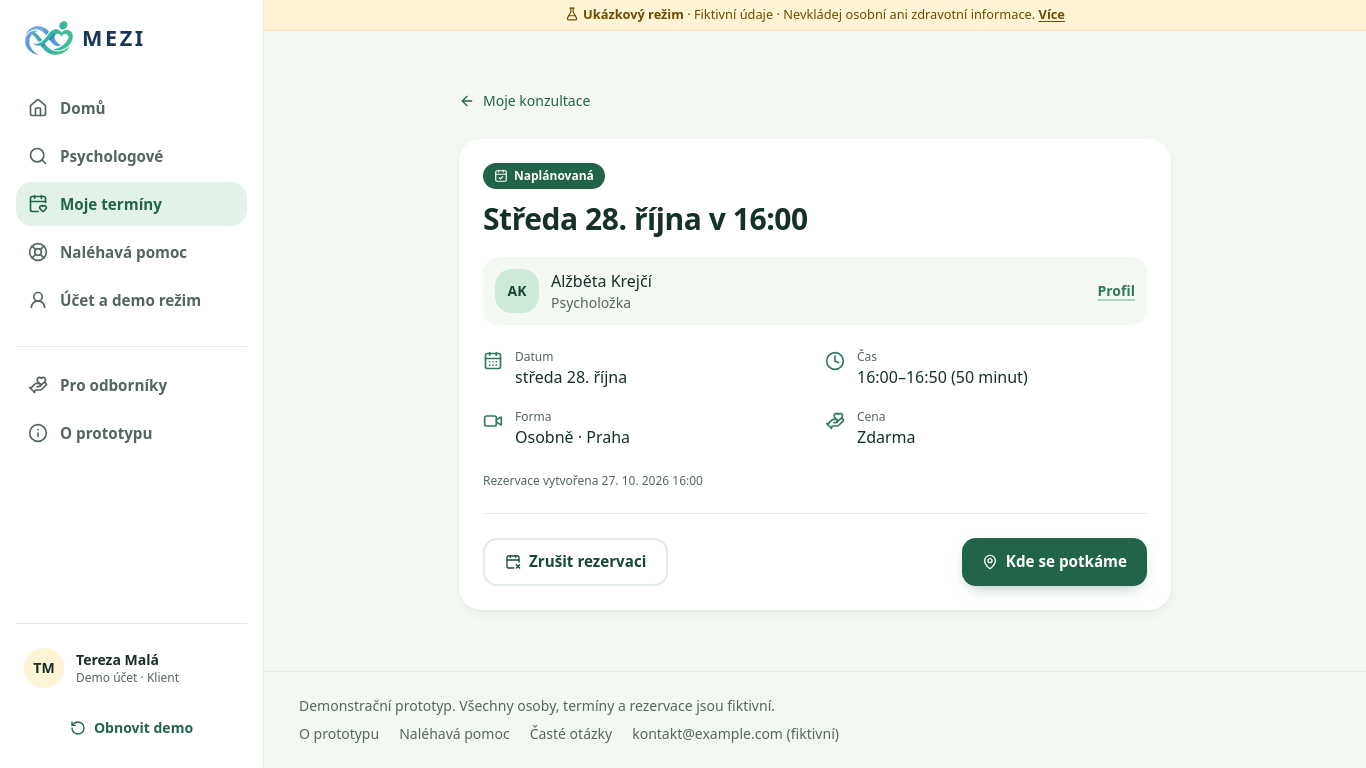
průchody aplikací › dialog ke konzultaci se zavře Escapem a vrátí focus
Podle formy termínu jde o připojení k hovoru, nebo o informace k osobnímu setkání.
Click the button "Kde se potkáme": (1054, 562) [962, 538, 1147, 586]
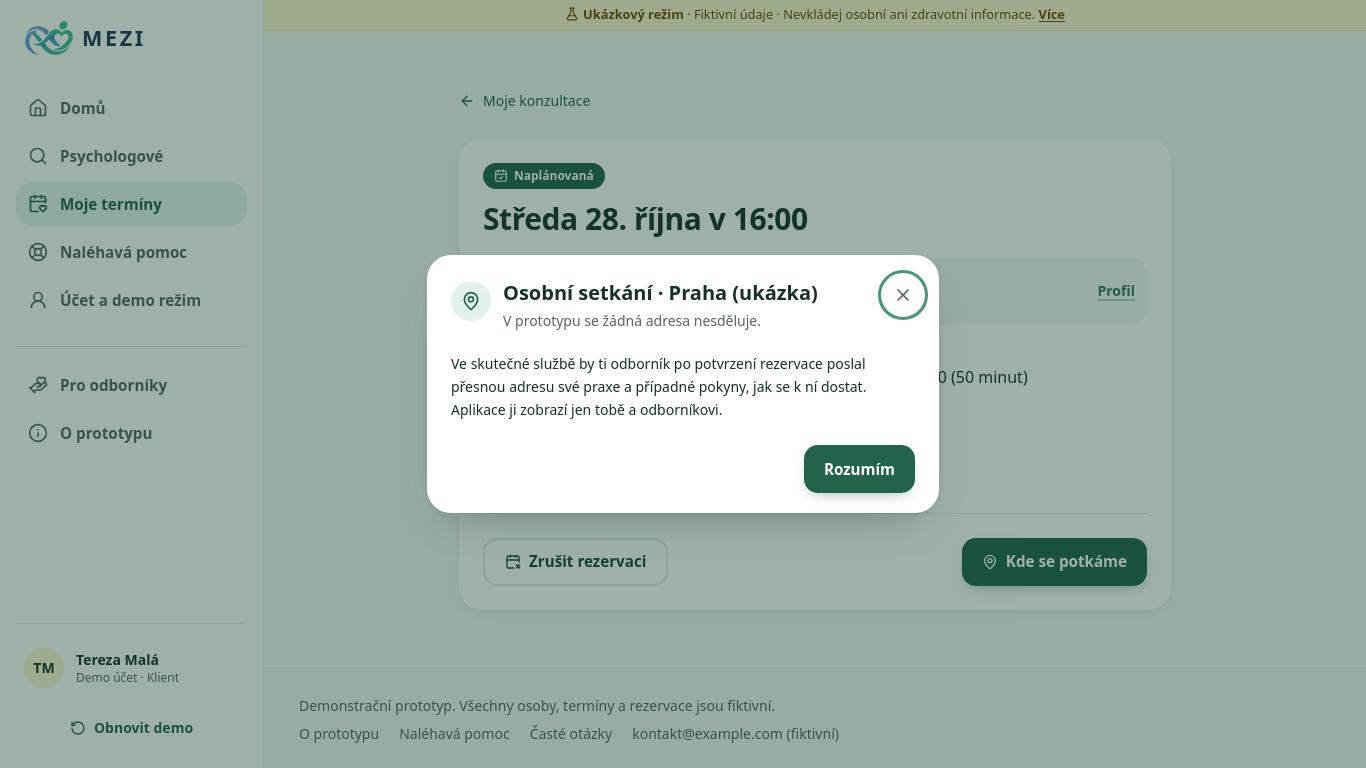
Check: the dialog is shown, box [427, 255, 939, 513]
Press Escape
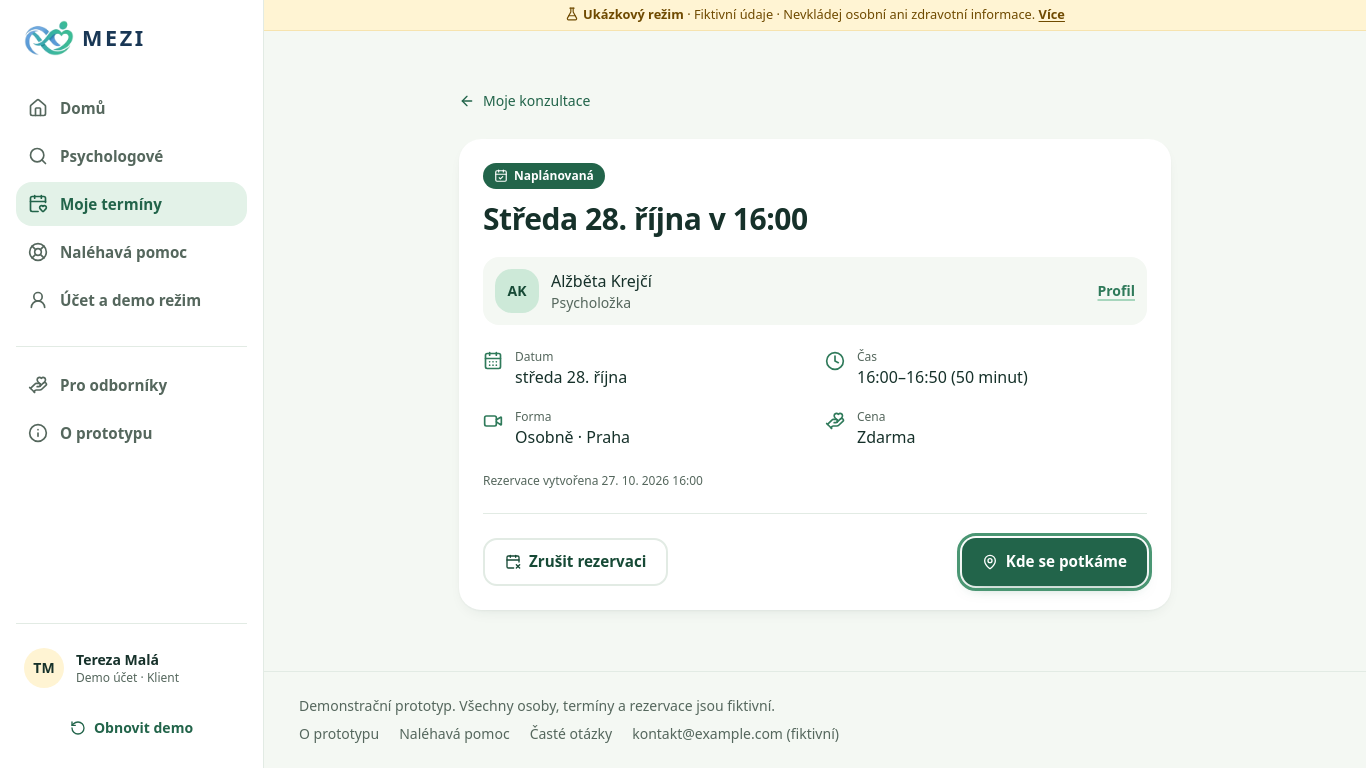
Check: the dialog is gone
